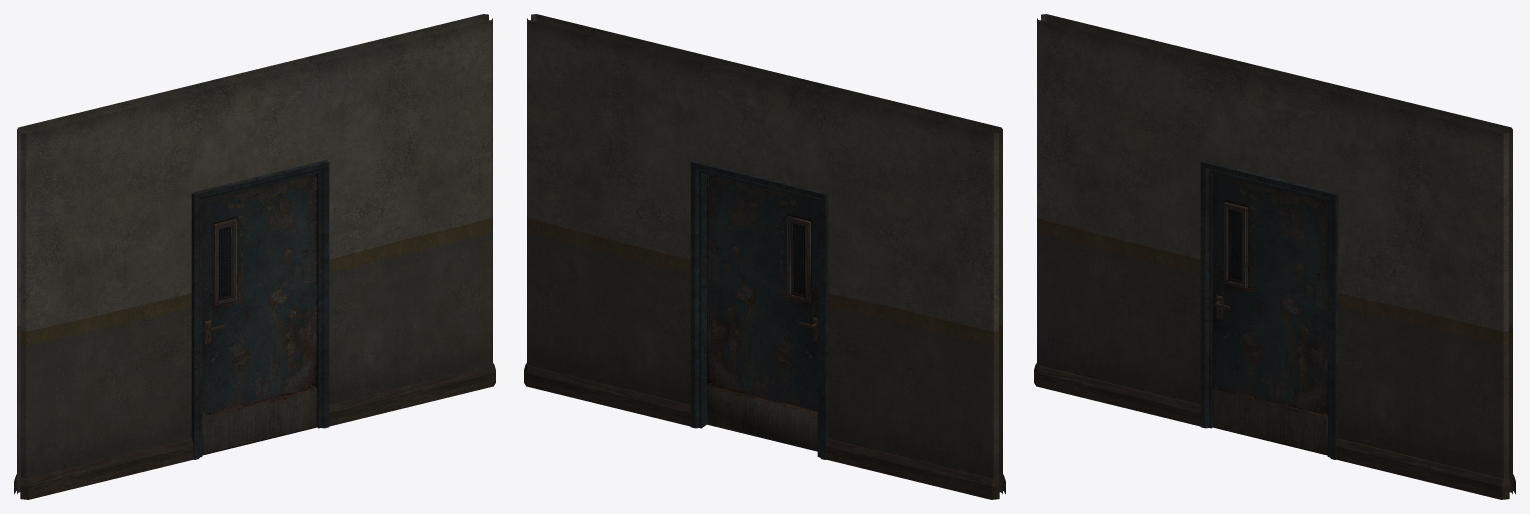
Rendered from doorway_1.fbx.
3 renders of one model, left to right at view 1: azimuth 30°, elevation 25°; view 2: azimuth 150°, elevation 25°; view 3: azimuth 330°, elevation 25°, orthographic.
Visible parts, largest first — view 1: doorway_1, door_3; view 2: doorway_1, door_3; view 3: doorway_1, door_3.
Part boxes in pixels (bbox=[...]): doorway_1: bbox=[14, 14, 495, 499]; door_3: bbox=[202, 173, 317, 455]; doorway_1: bbox=[524, 14, 1005, 499]; door_3: bbox=[707, 174, 817, 451]; doorway_1: bbox=[1034, 14, 1515, 499]; door_3: bbox=[1212, 173, 1327, 455].
Size of the model in its own units: 4.09 by 0.219 by 3.
